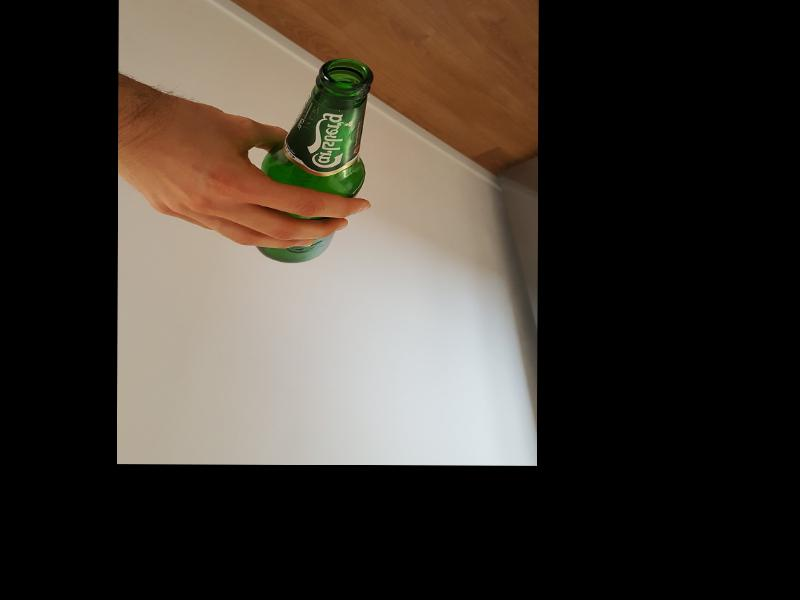Beer: (260, 57, 372, 262)
